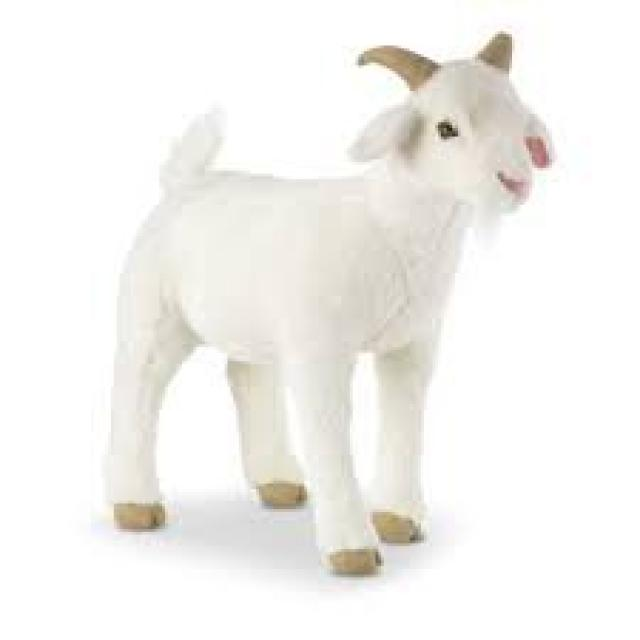Goat: (101, 27, 549, 565)
